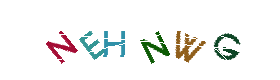E: (68, 0, 148, 80)
G: (148, 0, 228, 80)
H: (99, 0, 179, 80)
N: (21, 0, 101, 80), (142, 0, 222, 80)
W: (146, 0, 226, 80)
